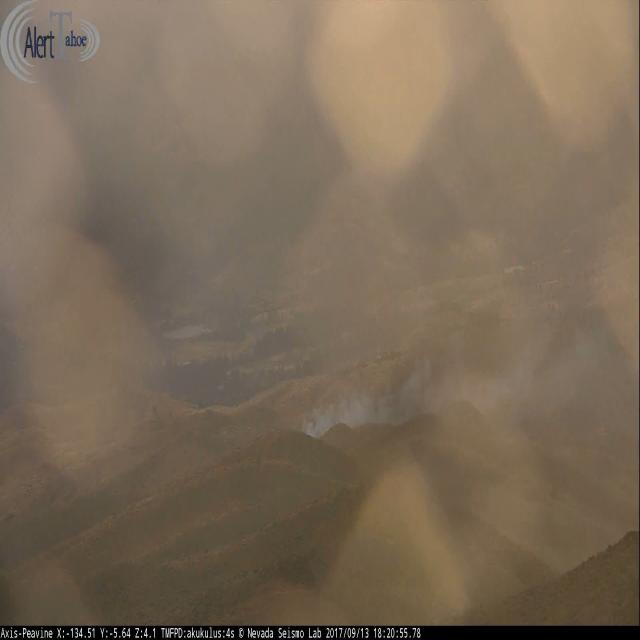smoke: (304, 372, 421, 442)
